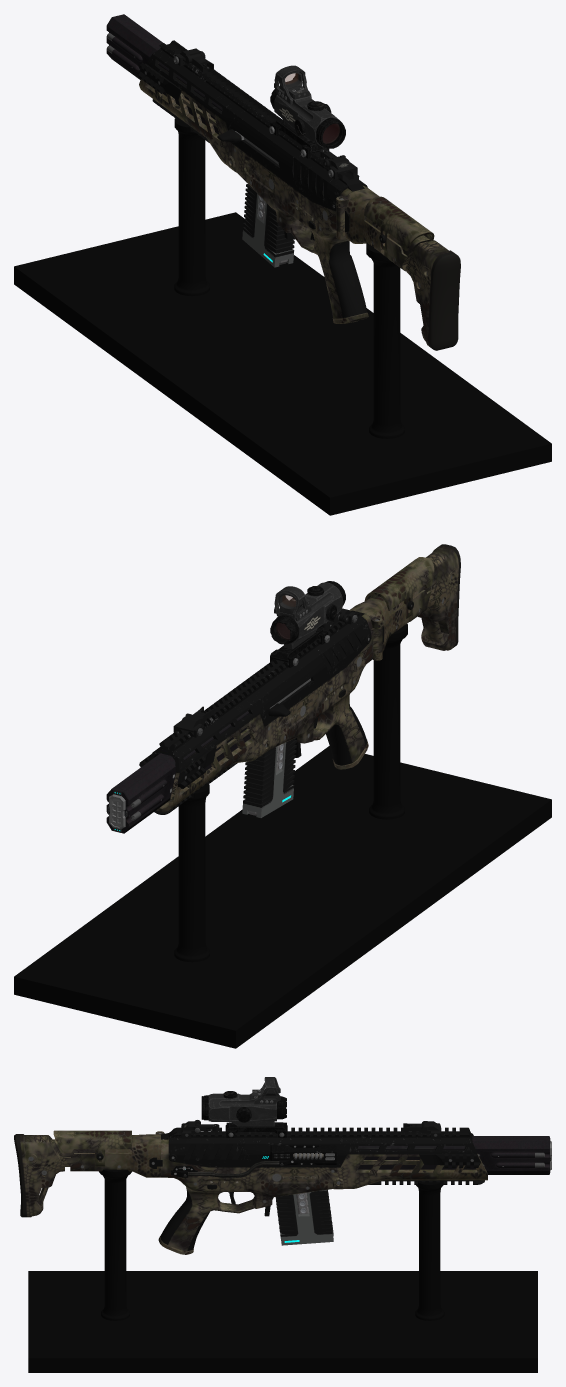
3 views of the same model, one above another, from view 1: azimuth 30°, elevation 25°; view 2: azimuth 150°, elevation 25°; view 3: azimuth 270°, elevation 25° (orthographic). The views are drawn at different scales.
Visible parts, largest first — view 1: Podium001, Receiver005, HAMR002_Hamr_0, Electric_barrel_006, Electric MAG003, Sight Down002; view 2: Podium001, Receiver005, HAMR002_Hamr_0, Electric_barrel_006, Electric MAG003, Sight Down002; view 3: Podium001, Receiver005, Electric_barrel_006, HAMR002_Hamr_0, Electric MAG003, Electric_Details002, Sight Down002.
Part boxes in pixels (box(x1,y1,x2,y2)): Podium001: box(14, 117, 551, 515); Receiver005: box(138, 40, 460, 350); HAMR002_Hamr_0: box(269, 65, 345, 158); Electric_barrel_006: box(106, 14, 222, 134); Electric MAG003: box(242, 184, 294, 267); Sight Down002: box(173, 48, 357, 179); Podium001: box(14, 624, 551, 1048); Receiver005: box(139, 544, 460, 814); HAMR002_Hamr_0: box(270, 581, 345, 667); Electric_barrel_006: box(106, 711, 250, 833); Electric MAG003: box(242, 737, 296, 817); Sight Down002: box(173, 608, 357, 737); Podium001: box(28, 1169, 537, 1372); Receiver005: box(14, 1127, 487, 1254); Electric_barrel_006: box(357, 1136, 551, 1174); HAMR002_Hamr_0: box(201, 1077, 287, 1137); Electric MAG003: box(275, 1189, 333, 1245); Electric_Details002: box(171, 1145, 336, 1177); Sight Down002: box(181, 1120, 440, 1138).
Bounding box in the file's own units: 0.3749 × 0.5021 × 0.9768.
Materials: 12 (10 with a texture image).
